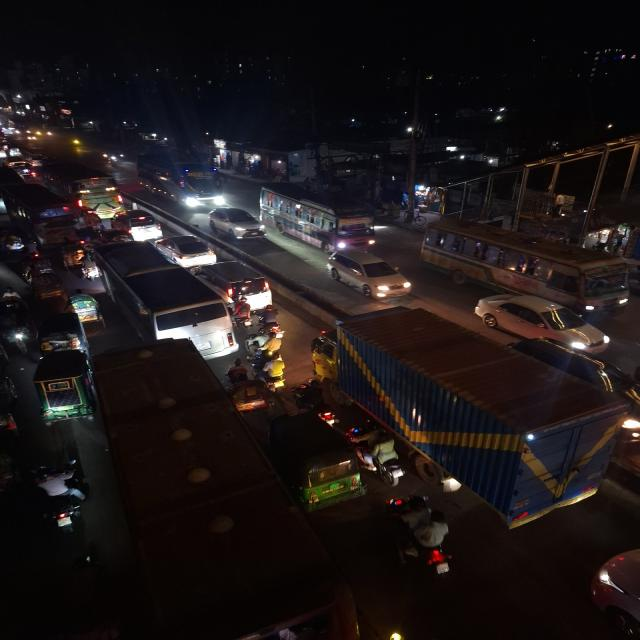bus: (424, 220, 631, 310), (90, 242, 236, 364), (252, 185, 370, 259), (132, 154, 224, 210), (2, 186, 78, 243), (58, 162, 128, 219)
car: (469, 296, 611, 356), (329, 250, 405, 302), (207, 261, 270, 305), (162, 233, 215, 270), (211, 208, 269, 241), (112, 209, 163, 239)
cng: (276, 413, 361, 515)
motorcycle: (24, 464, 102, 542), (391, 498, 458, 585), (361, 423, 403, 496), (254, 351, 294, 388), (260, 308, 292, 343), (79, 254, 98, 281)
rickshaw: (25, 358, 103, 427), (223, 362, 266, 415), (21, 263, 67, 304), (71, 291, 108, 329), (230, 297, 256, 329), (62, 241, 84, 270)
truck: (324, 318, 604, 524)
